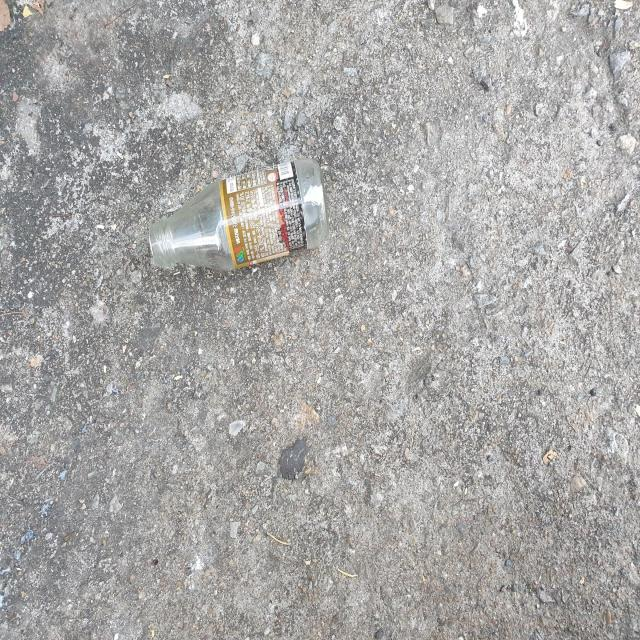glass: (149, 158, 329, 270)
